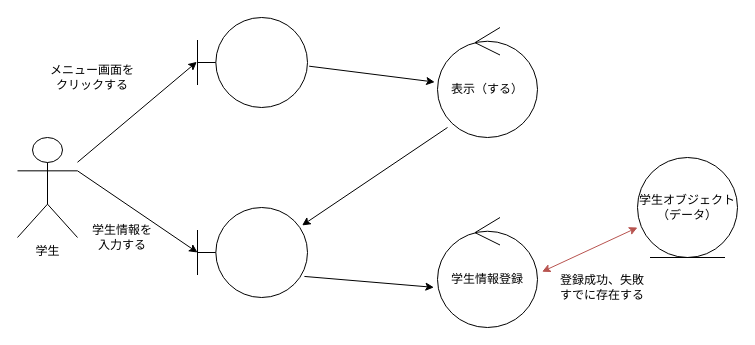
The diagram is 755 pixels wide and 345 high, and some of its shapes have lost their labels. Each missing label, with the box of its shape:
メニュー 画面: (196, 16, 308, 108)
学生登録画面: (196, 206, 308, 298)
